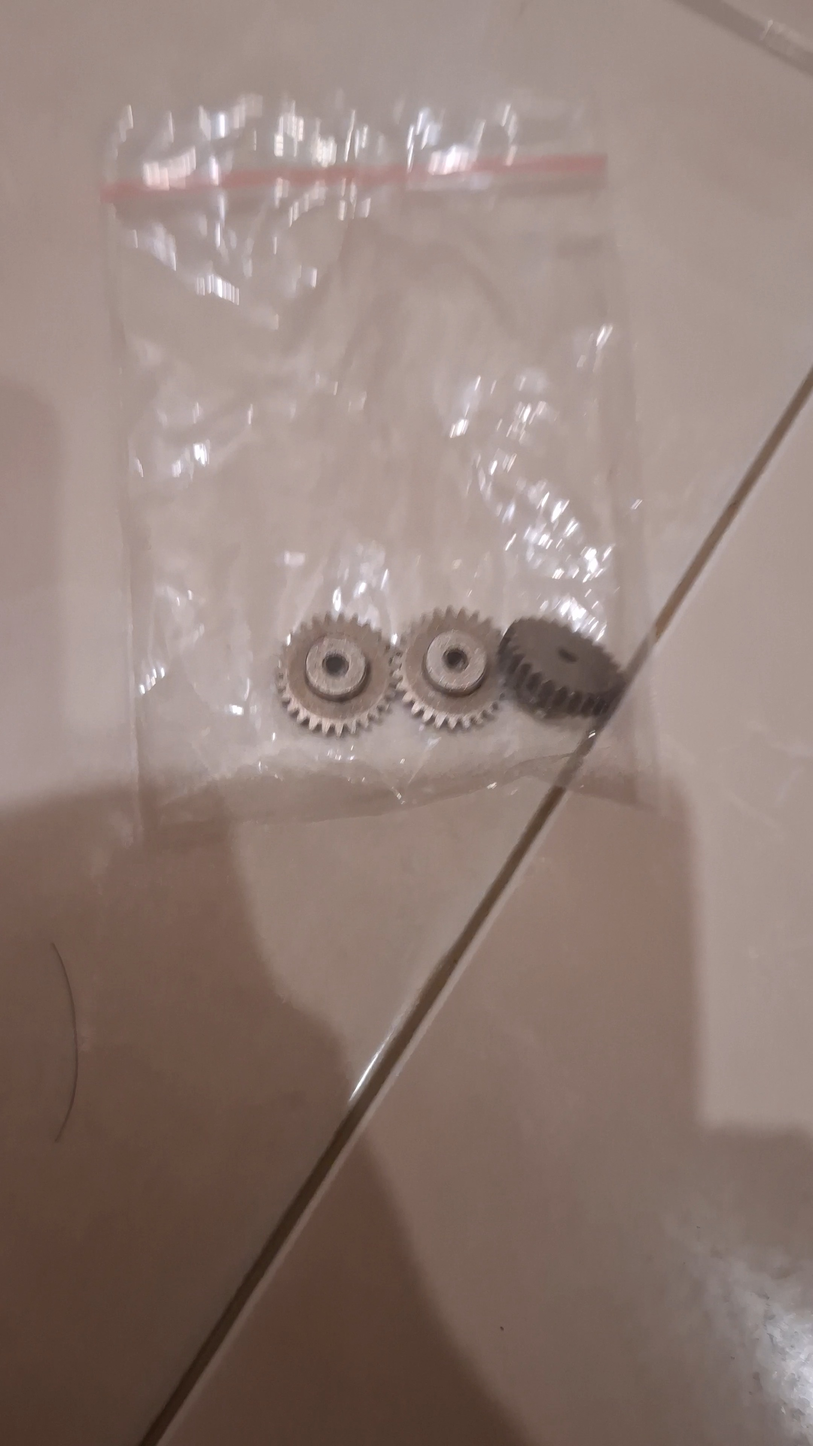spur gear: (273, 611, 400, 737), (494, 614, 627, 723), (394, 608, 510, 729)
